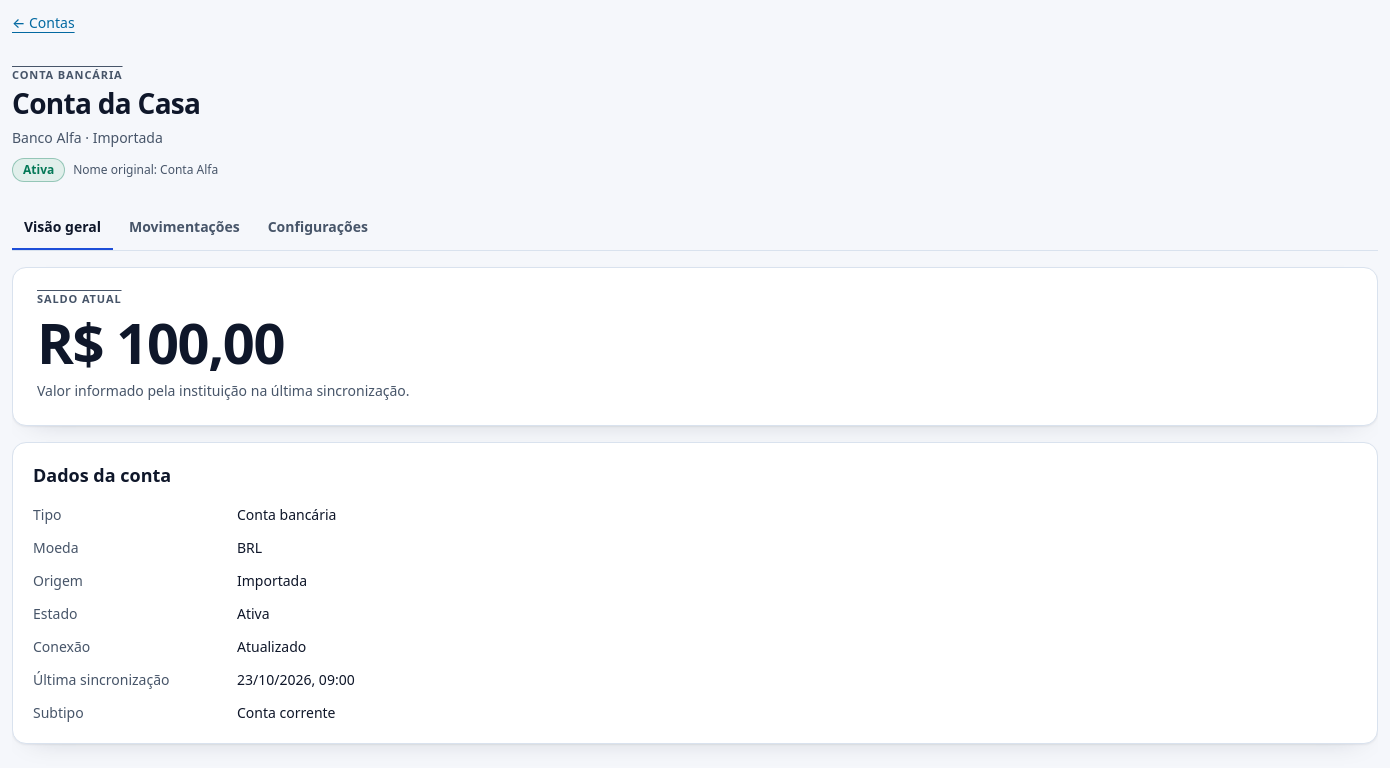
detalhe da conta com nome personalizado › mostra movimentações recentes em aba própria
This screenshot has width=1390, height=768.
Check: the heading "Conta da Casa" is shown, box [12,87,218,121]
What coordinates should you click on to do the following:
click the tab "Movimentações"
I would click on:
 (184, 228)
Its box is [117,206,252,250].
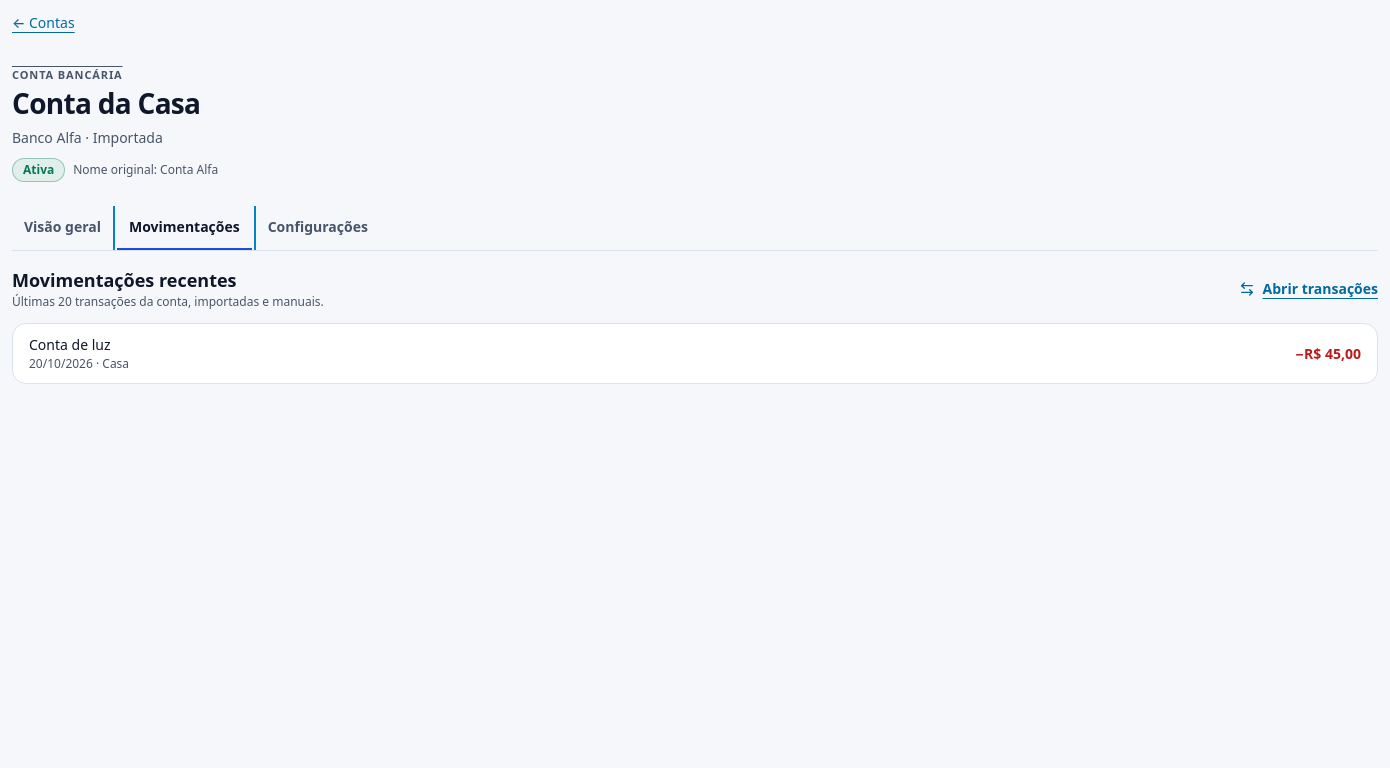
Check: the text "Conta de luz" is shown, box [29,335,110,354]
Check: the text "−R$ 45,00" is shown, box [1295,343,1361,364]
